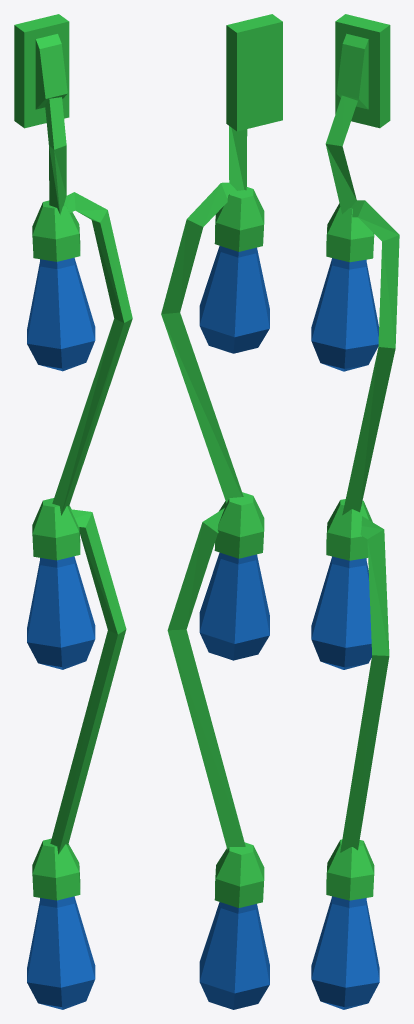
The model's file is SM_rope_lamps1.fbx.
The picture shows the model from 3 angles, left to right: view 1: azimuth 30°, elevation 25°; view 2: azimuth 210°, elevation 25°; view 3: azimuth 330°, elevation 25°; orthographic projection. The views are drawn at different scales.
Visible parts, largest first — view 1: rope_lamps1; view 2: rope_lamps1; view 3: rope_lamps1.
Boxes of the visible parts, x1,y1,x2,y2 form: rope_lamps1: (14,14,132,1009); rope_lamps1: (161,14,282,1009); rope_lamps1: (311,14,399,1009).
Bounding box in the file's own units: 10.6 × 104 × 7.81.
